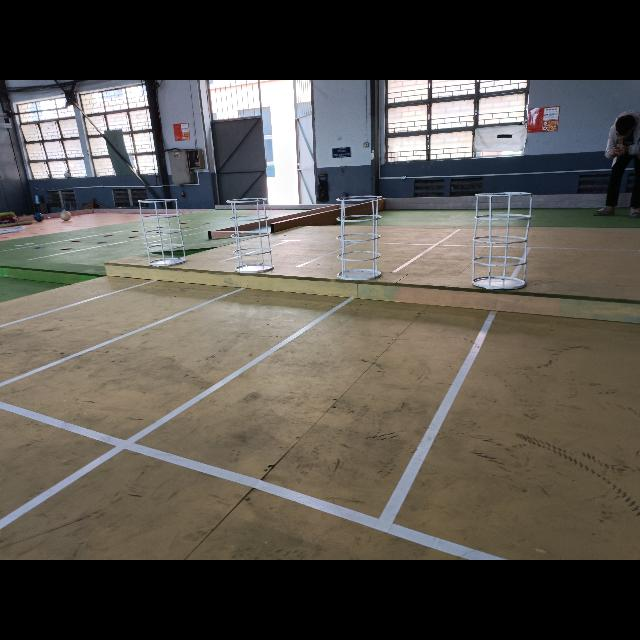S: (472, 192, 533, 290), (336, 195, 385, 283), (226, 197, 274, 273), (137, 198, 187, 266)
